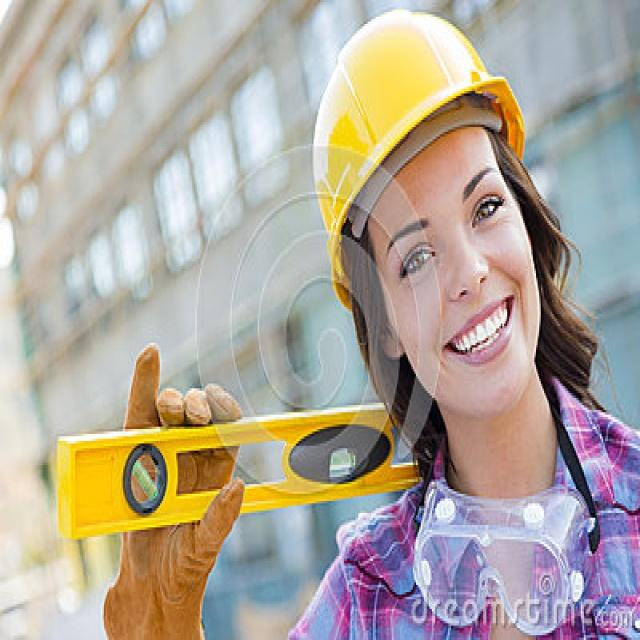helmet: (309, 7, 547, 556)
